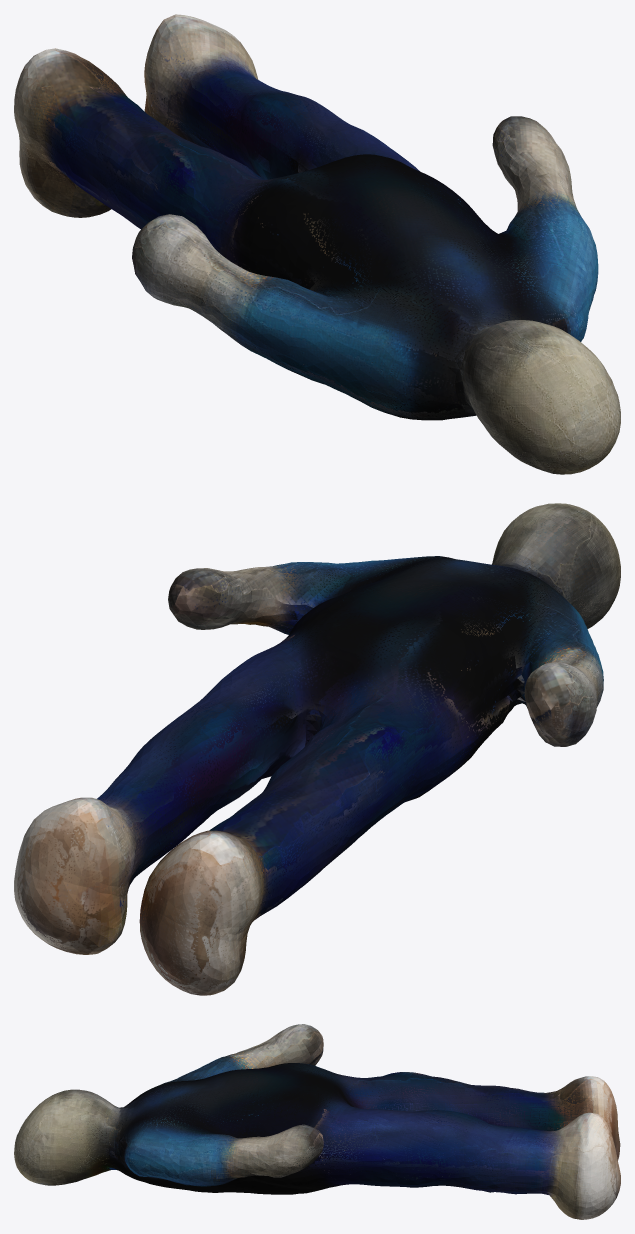
File: grandfather.glb
3 views of the same model, one above another, from view 1: azimuth 30°, elevation 25°; view 2: azimuth 150°, elevation 25°; view 3: azimuth 270°, elevation 25° (orthographic). The views are drawn at different scales.
Visible parts, largest first — view 1: world; view 2: world; view 3: world.
Boxes of the visible parts, box(x1,y1,x2,y2) form: world: box(14, 14, 620, 474); world: box(14, 503, 620, 995); world: box(14, 1024, 620, 1219).
Bounding box in the file's own units: 0.5008 × 0.2316 × 1.
Materials: 1 (1 with a texture image).
